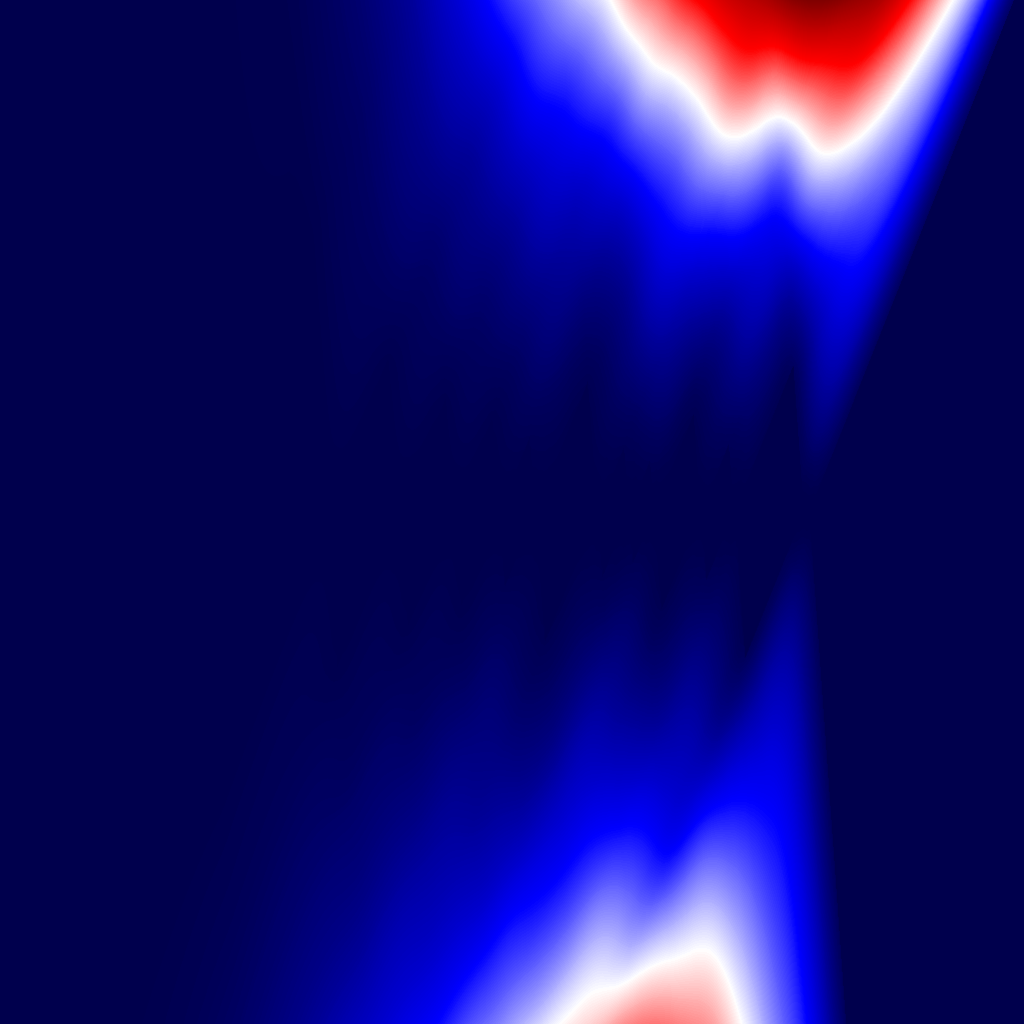diamond: (202, 242, 329, 782), (330, 356, 403, 668), (738, 364, 808, 660), (539, 381, 601, 643), (404, 397, 458, 627), (658, 413, 704, 611), (458, 417, 502, 607), (503, 436, 539, 588), (704, 442, 737, 582), (601, 446, 632, 578), (632, 459, 657, 565), (808, 503, 812, 521)
